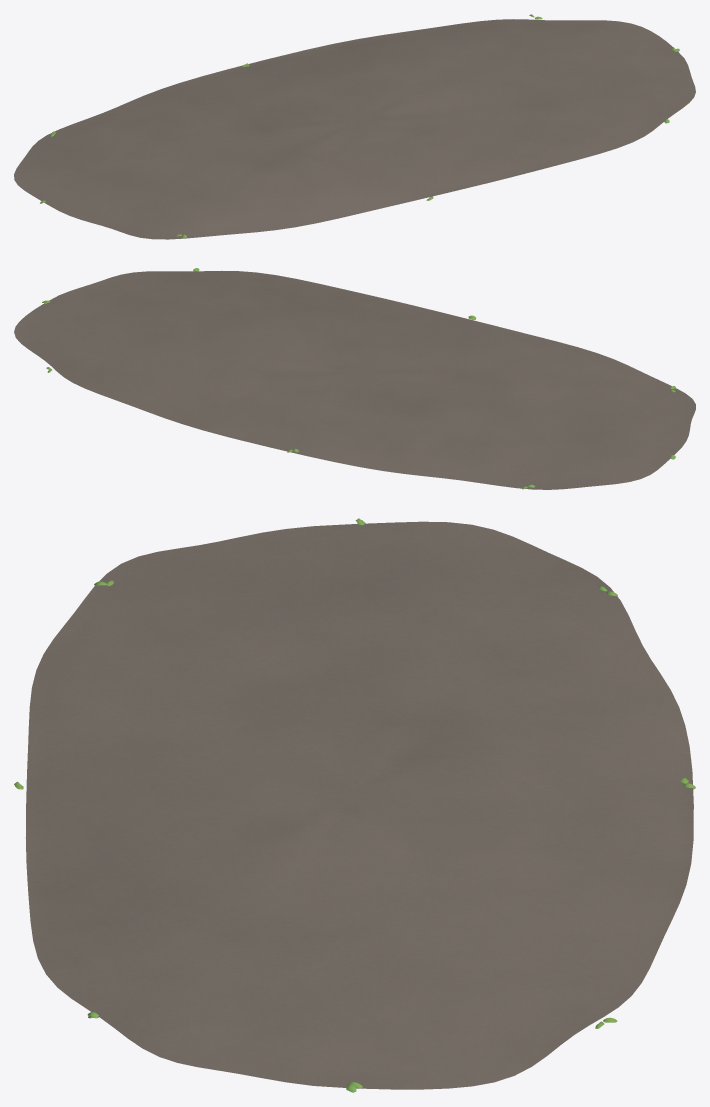
Rendered from strawberry_bed.glb.
3 renders of one model, top to bottom at view 1: azimuth 30°, elevation 25°; view 2: azimuth 150°, elevation 25°; view 3: azimuth 270°, elevation 25°, orthographic. The views are drawn at different scales.
Visible parts, largest first — view 1: StrawberryBed | continuous loam; view 2: StrawberryBed | continuous loam; view 3: StrawberryBed | continuous loam.
Boxes of the visible parts, x1,y1,x2,y2 form: StrawberryBed | continuous loam: (14,19,695,239); StrawberryBed | continuous loam: (14,271,695,489); StrawberryBed | continuous loam: (25,521,693,1089).
Bounding box in the file's own units: 8.9 × 0.1033 × 4.49.
3 materials, 1 textured.
